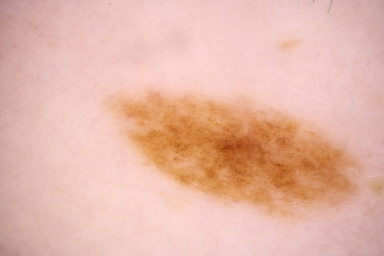nevus: (104, 96, 366, 222)
